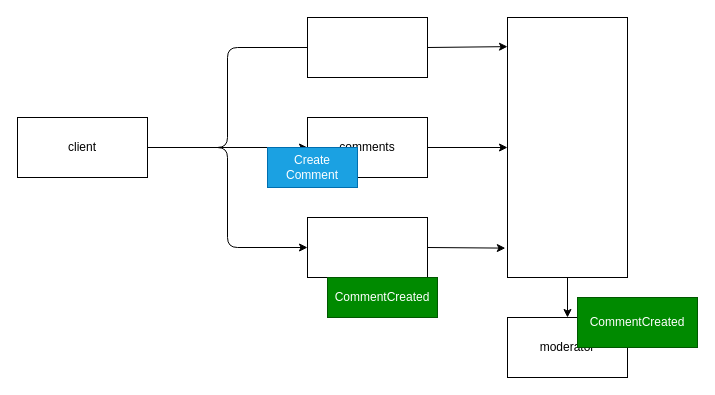
The diagram is 715 pixels wide and 395 high, and some of its shapes have lost their labels. The shapes that lost their labels are listed below. From the top down, each one's centre as x and y in pixels, then its label:
(367,47): posts
(567,147): event bus
(367,247): query
